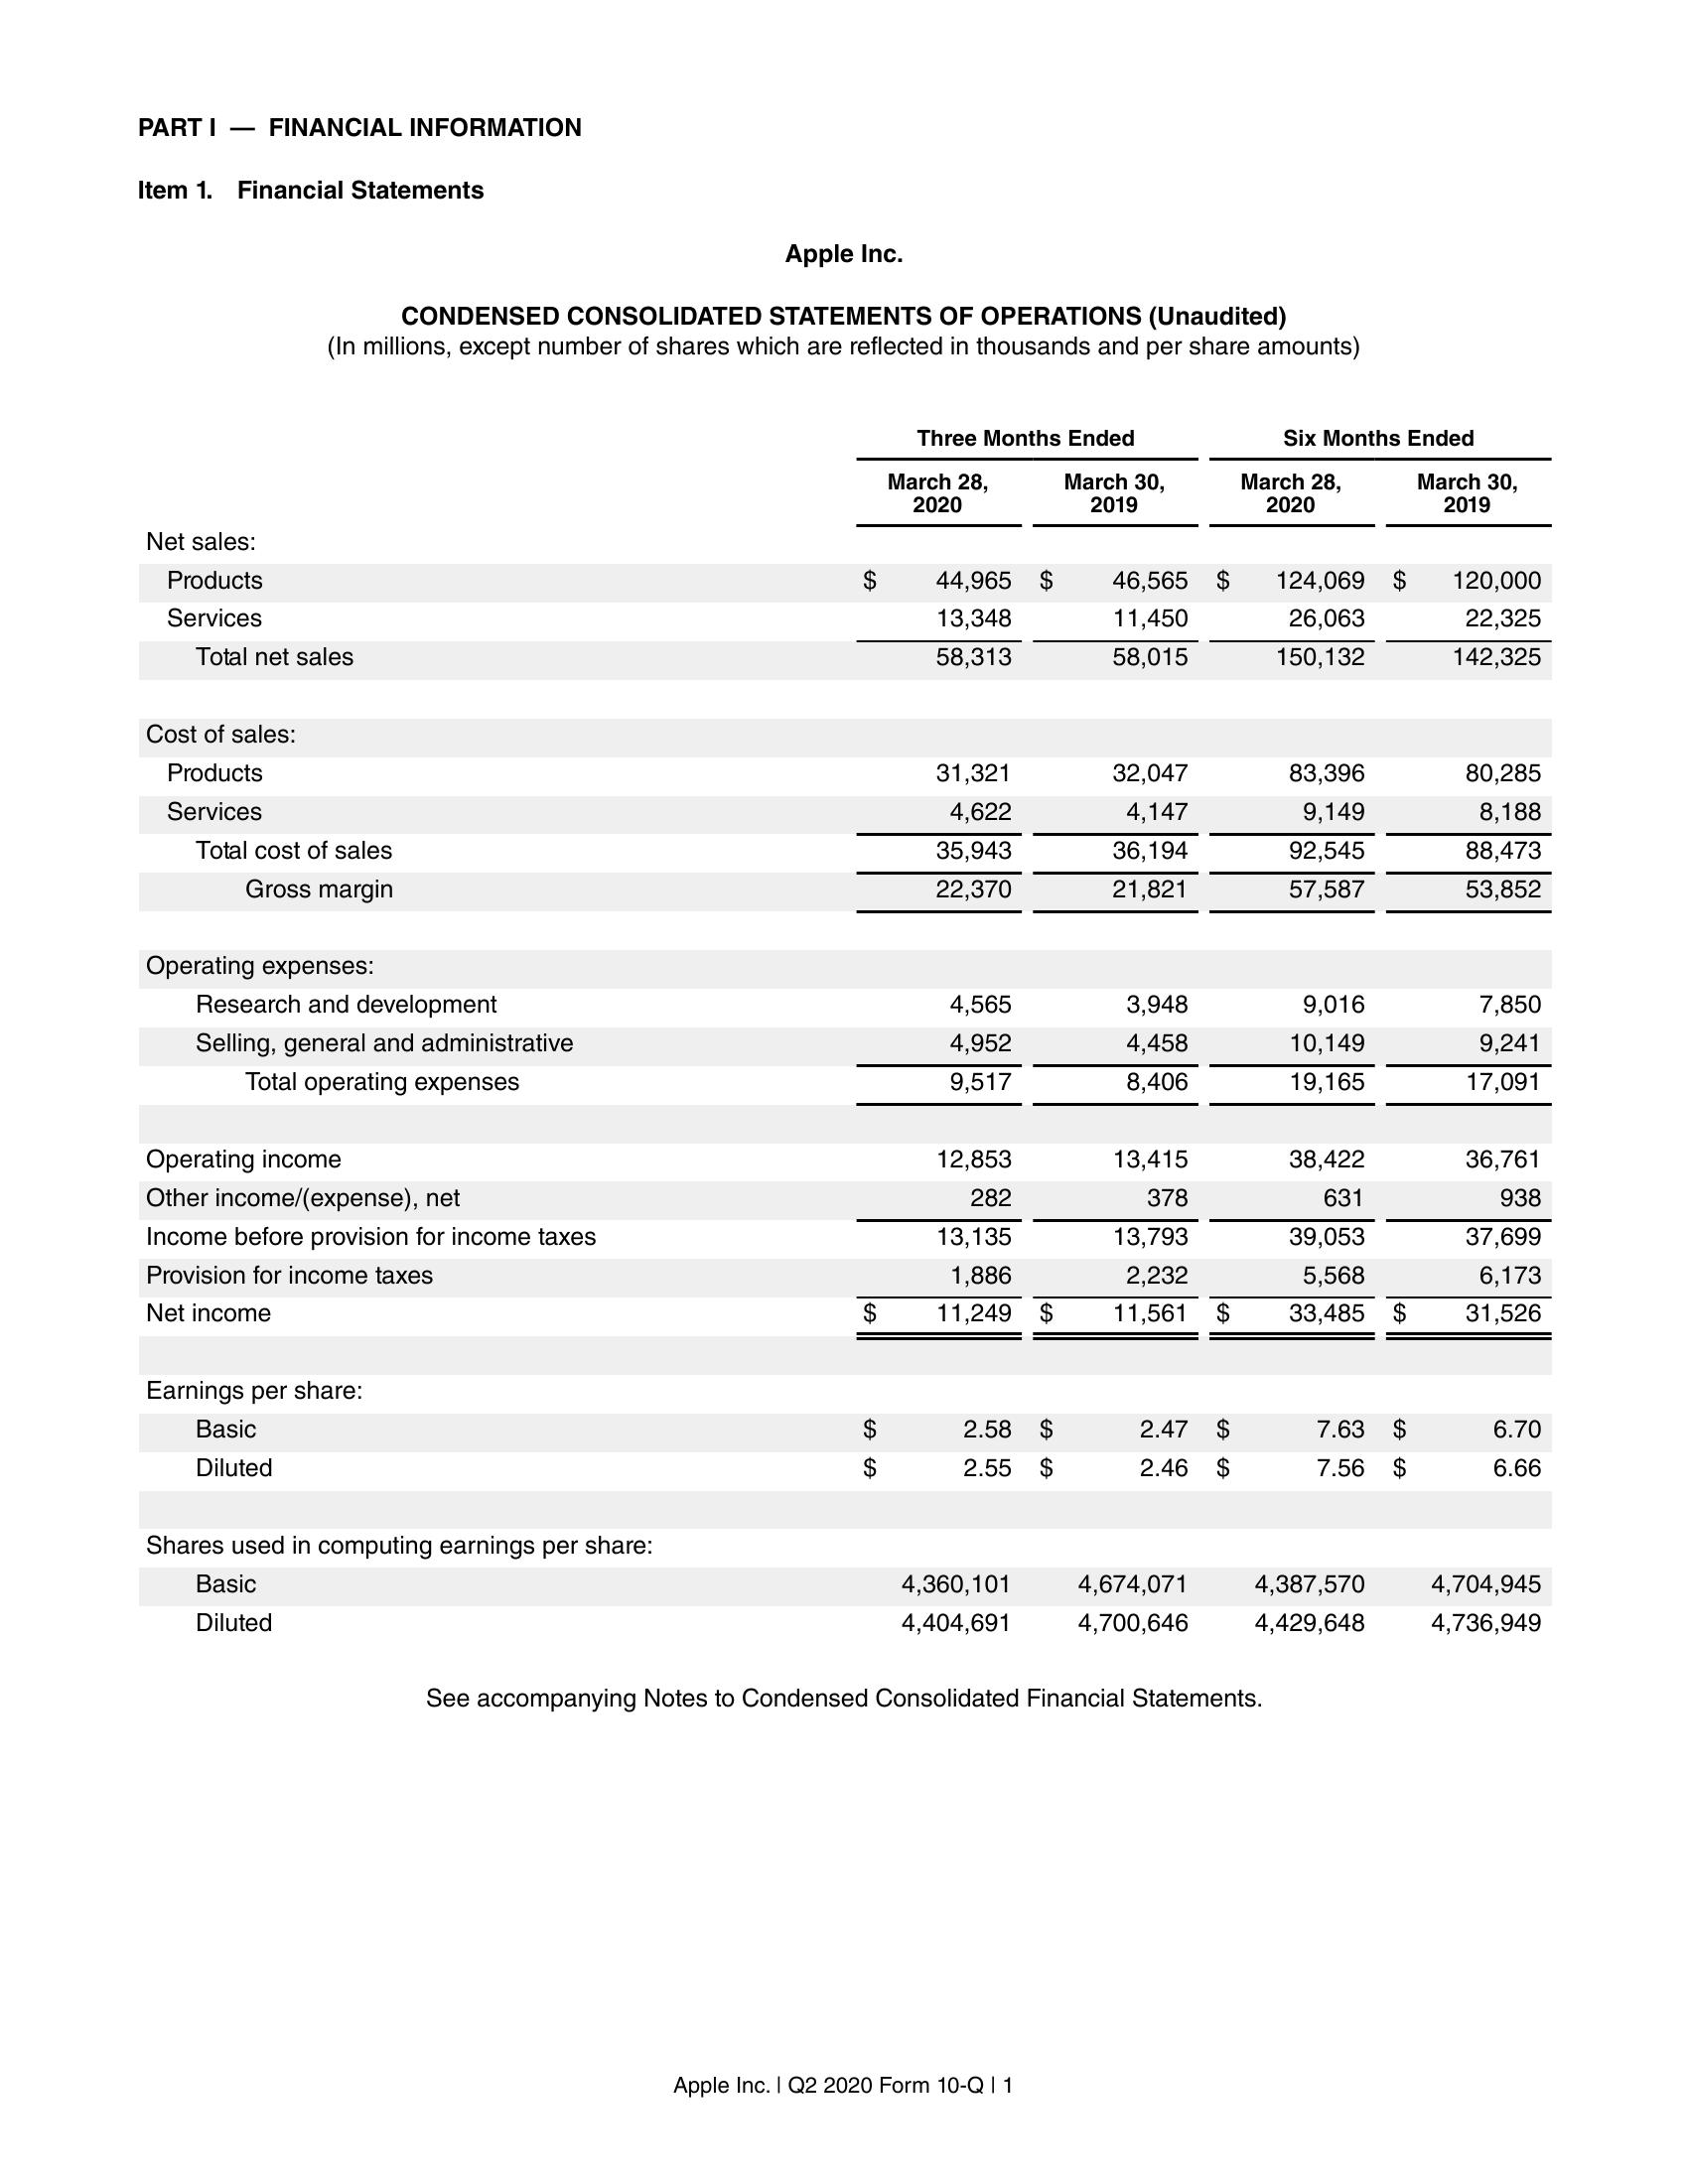table: (142, 427, 1559, 1643)
